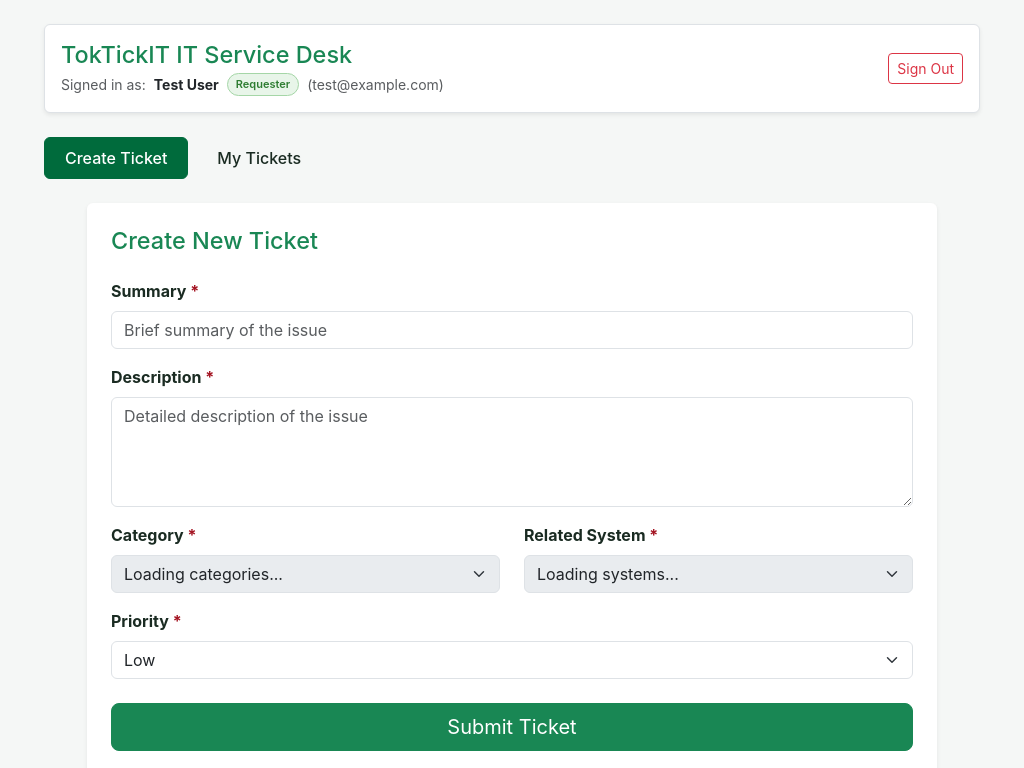
it: TokTickIT UI Tests (Lab 1 & 2) › UI-05: Switches between Create Ticket and My Tickets navigation tabs
The image size is (1024, 768).
Check: the heading "Create New Ticket" is shown, box 111,226 -> 318,255
# Switch to My Tickets tab
Click the button named "My Tickets tab" at [259, 158], box 196,137 -> 322,179
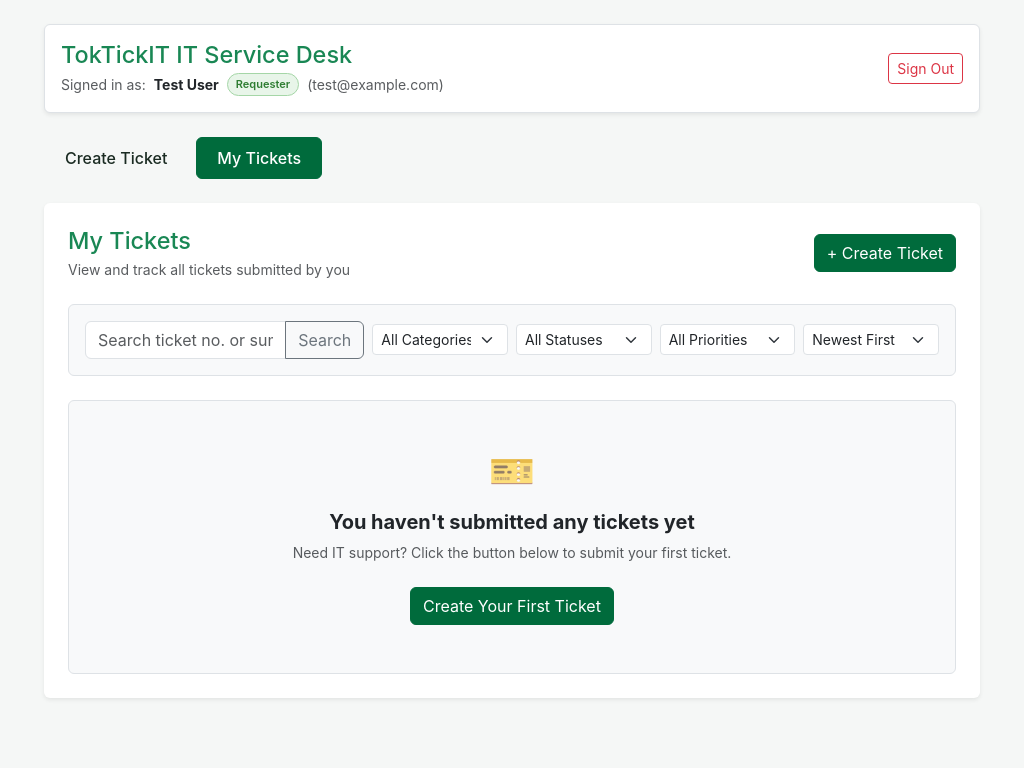
Check: the heading "My Tickets" is shown, box 68,226 -> 191,255
# Switch back to Create Ticket tab
Click the button named "Create Ticket tab" at [116, 158], box 44,137 -> 188,179
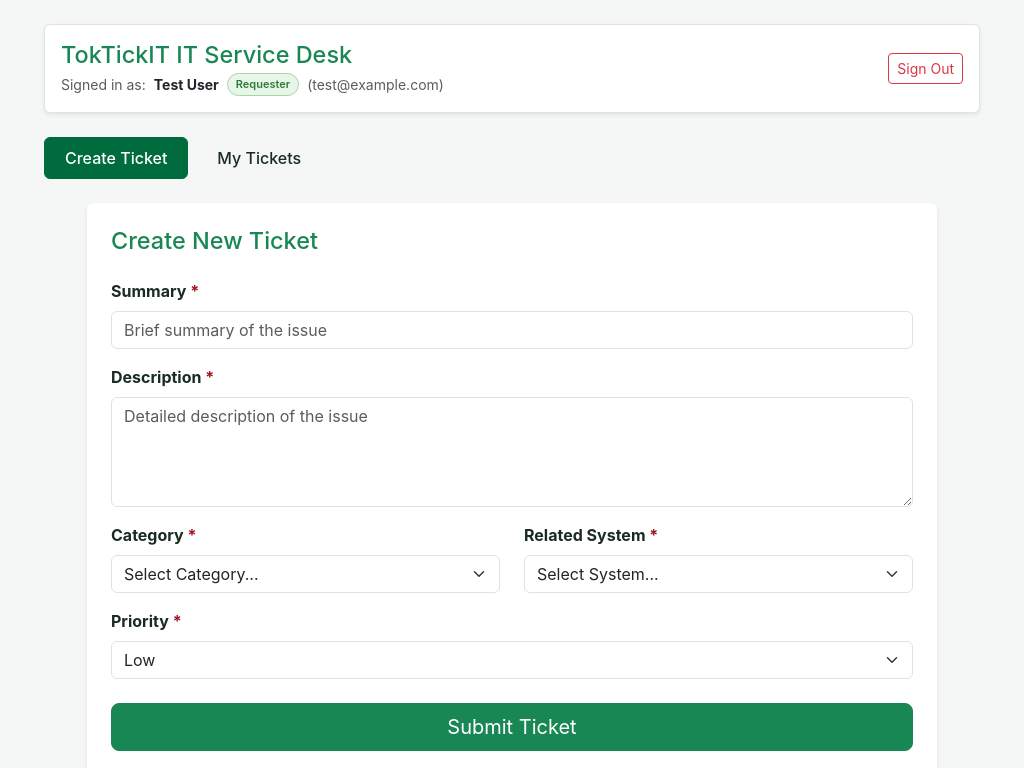
Check: the heading "Create New Ticket" is shown, box 111,226 -> 318,255
